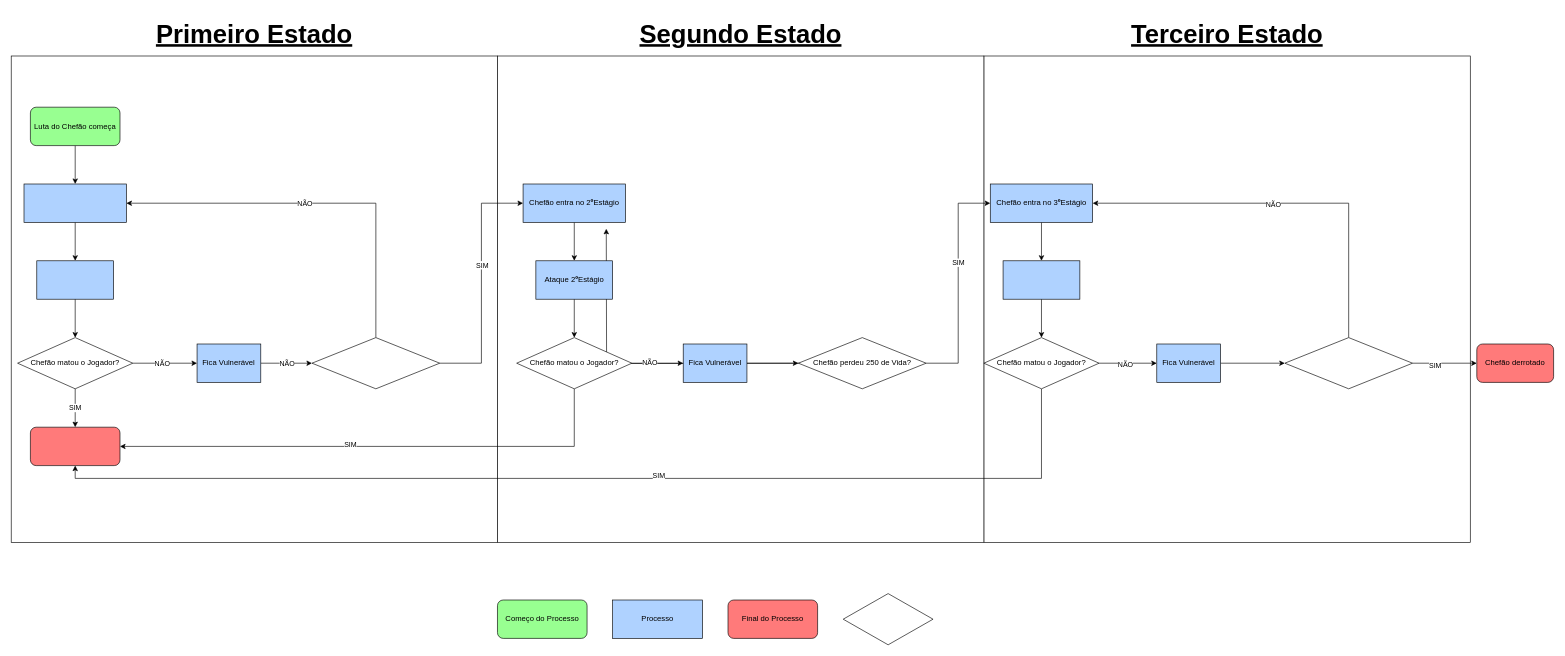
Some shapes in this 1565 by 656 pixel diagram are drawn without their labels. The shapes that lost their labels are listed below. From the top down, each one's centre as x and y in pixels, then its label:
At [74,202]: "Chefão entra no 1 º Estágio".
At [75,279]: "Ataque 1 º Estágio".
At [1041,279]: "Ataque 3 º Estágio".
At [375,363]: "Chefão perdeu 100 de Vida?".
At [1348,363]: "Chefão perdeu 500 de Vida?".
At [75,446]: "Luta do Chefão acaba".
At [888,619]: "Tomada de Decisão".
